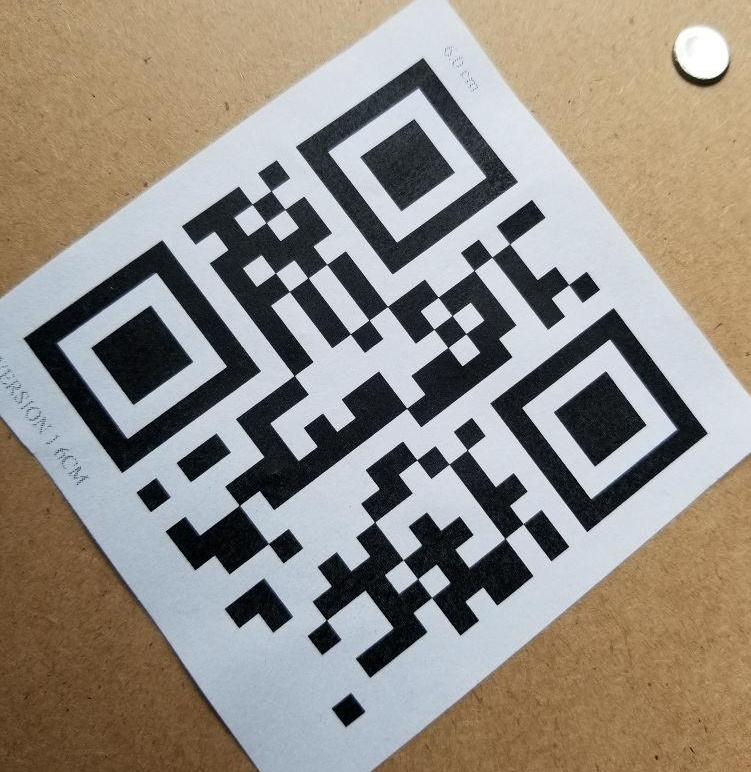qrcode: (25, 58, 710, 729)
